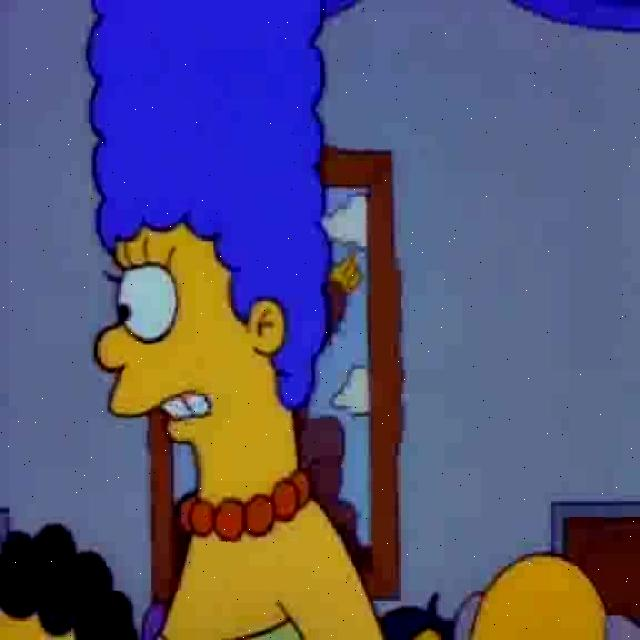Marge Simpson: (90, 1, 328, 534)
